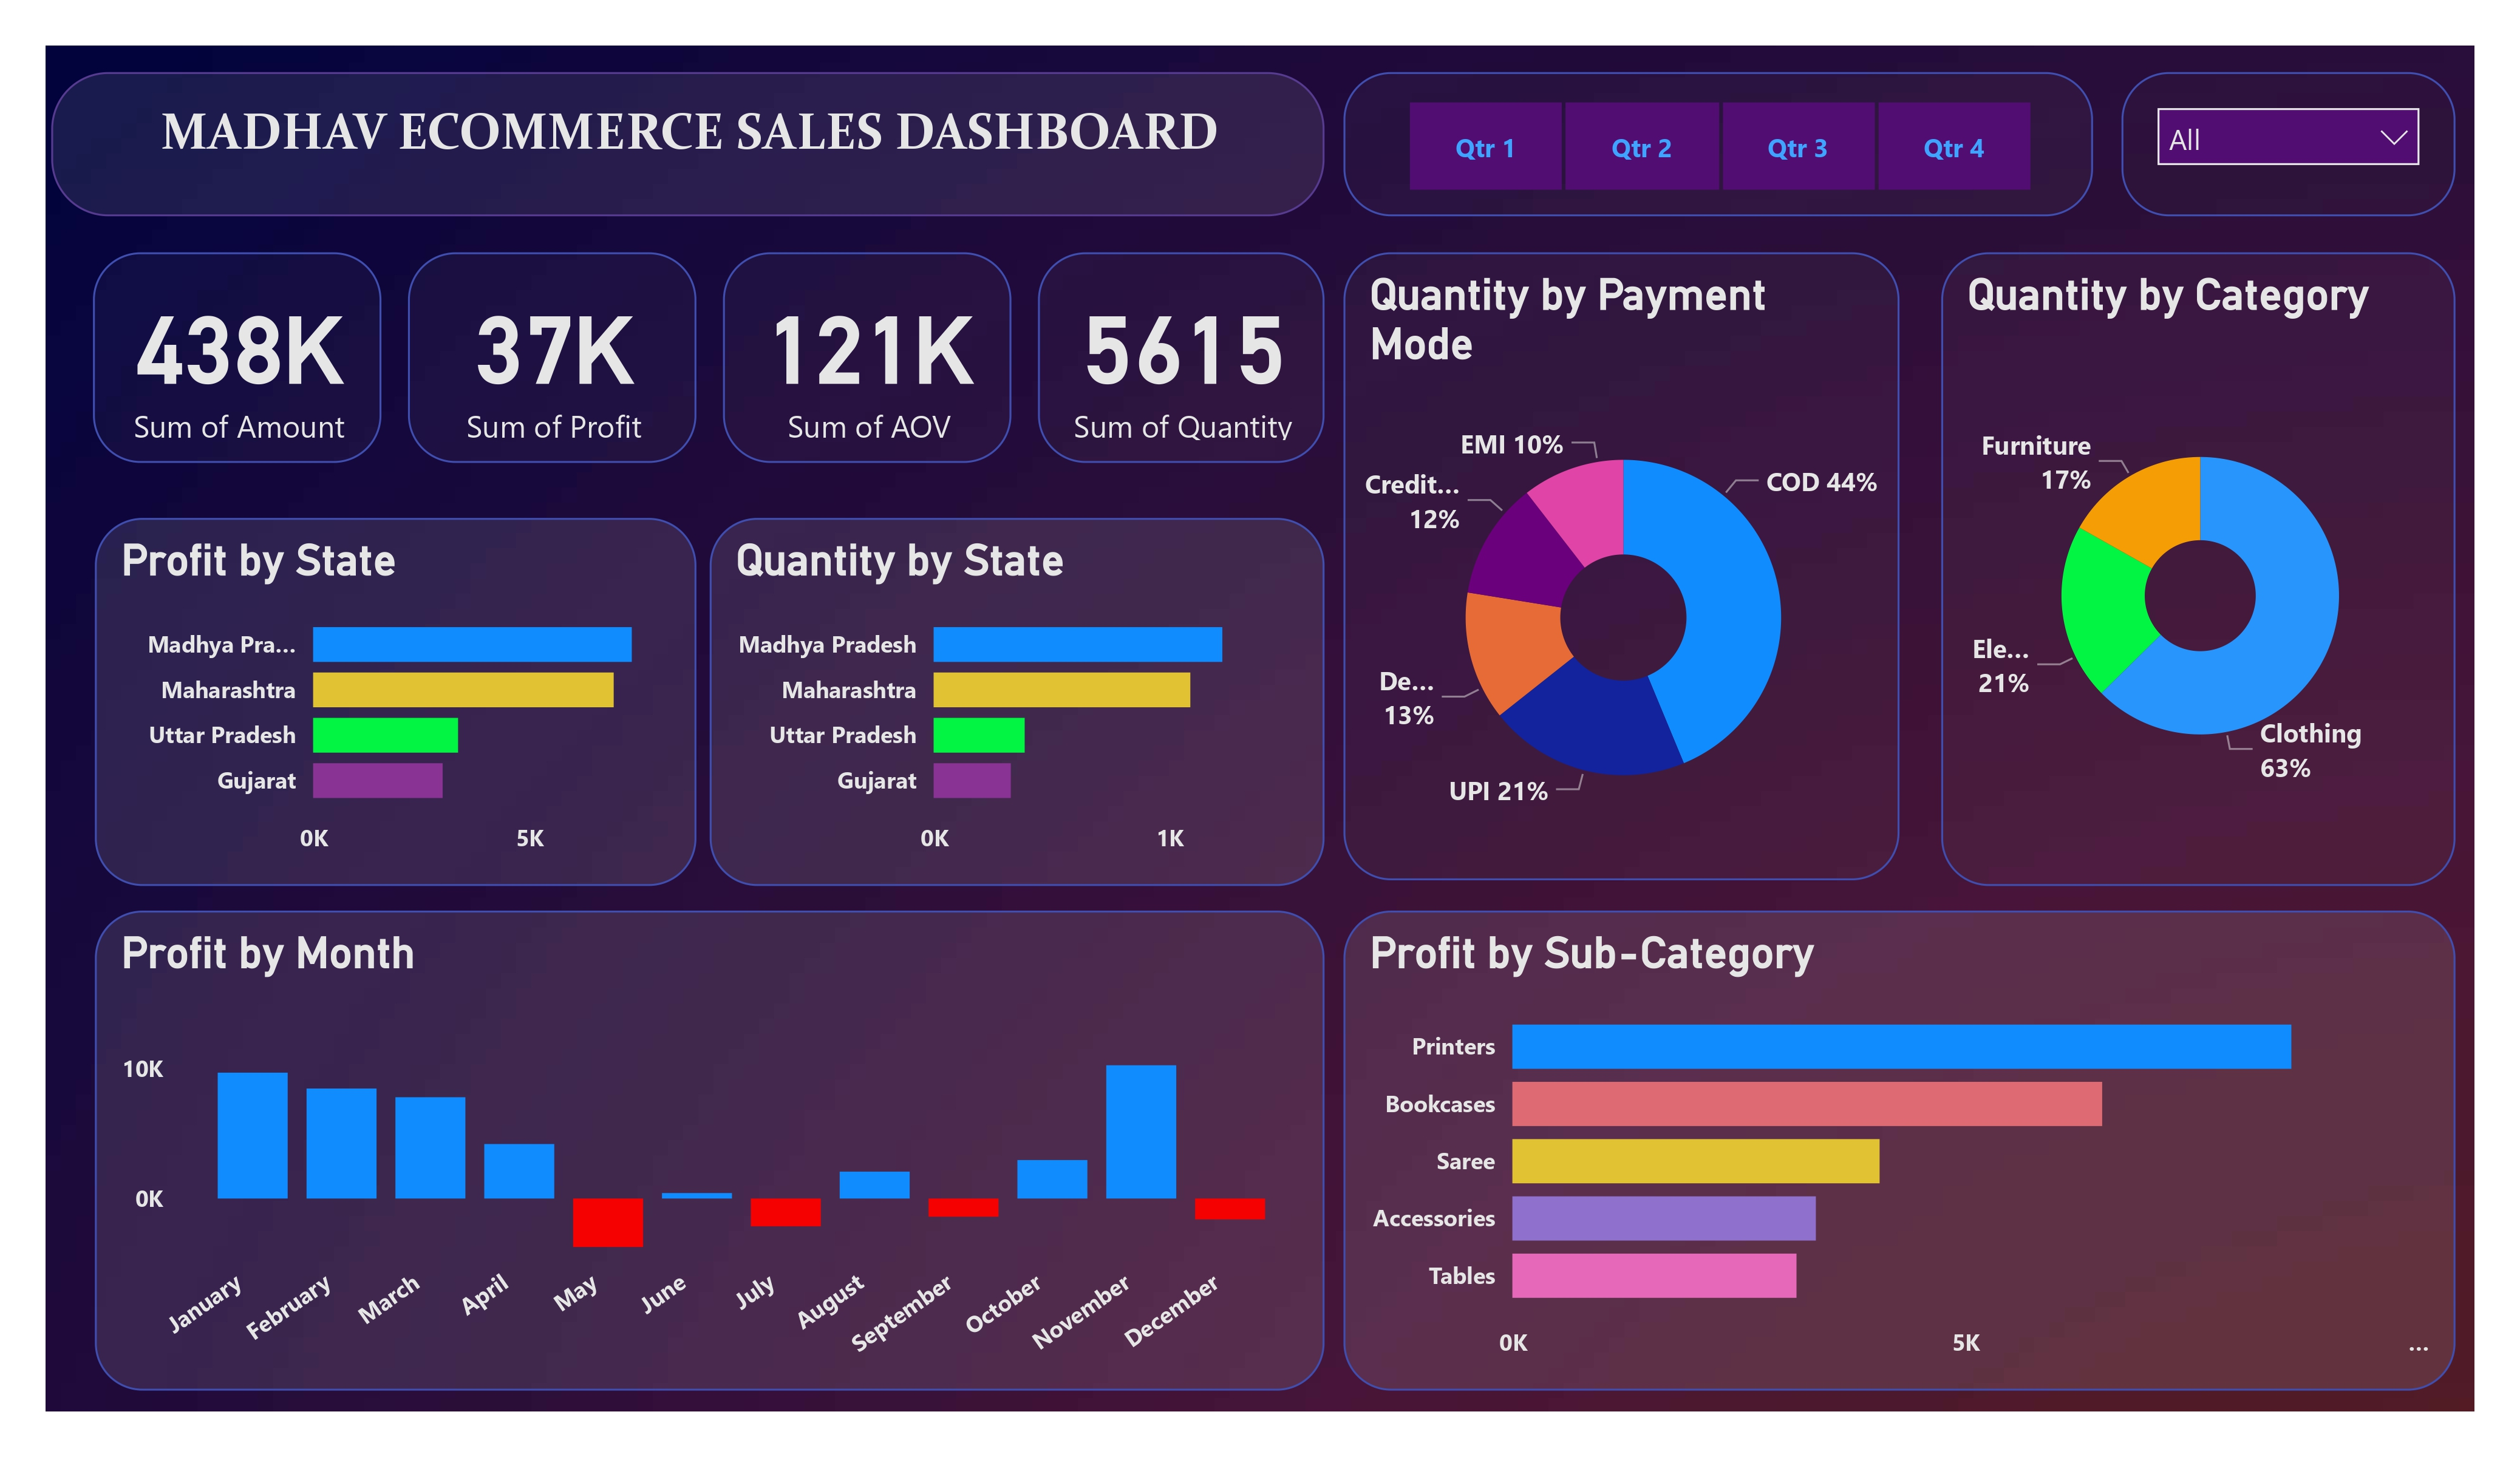

The page's visual inventory and layout, read from the dashboard file:
{"tool":"powerbi","page":{"name":"Page 1","canvas":[1280,720],"ordinal":0},"visuals":[{"type":"textbox","box":[2.9,14.3,671.4,75.7],"z":0},{"type":"columnChart","title":"Profit by Month","fields":{"Y":["Sum(Details.Profit)"],"Category":["Orders.Order Date.Variation.Date Hierarchy.Month"]},"box":[25.7,455.7,648.6,252.9],"z":1000},{"type":"barChart","fields":{"Category":["Details.Sub-Category"],"Y":["Sum(Details.Profit)"]},"box":[684.3,455.7,585.7,252.9],"z":2000},{"type":"donutChart","fields":{"Category":["Details.Category"],"Y":["Sum(Details.Quantity)"]},"box":[998.6,108.6,271.4,334.3],"z":3000},{"type":"donutChart","fields":{"Y":["Sum(Details.Quantity)"],"Category":["Details.PaymentMode"]},"box":[684.3,108.6,292.9,331.4],"z":4000},{"type":"card","fields":{"Values":["Sum(Details.Profit)"]},"box":[191.4,108.6,151.4,111.4],"z":5000},{"type":"card","fields":{"Values":["Sum(Details.AOV)"]},"box":[357.1,108.6,151.4,111.4],"z":6000},{"type":"card","fields":{"Values":["Sum(Details.Amount)"]},"box":[25.4,109.1,151.9,111.1],"z":7000},{"type":"card","fields":{"Values":["Sum(Details.Quantity)"]},"box":[522.9,108.6,151.4,111.4],"z":8000},{"type":"barChart","fields":{"Y":["Sum(Details.Profit)"],"Category":["Orders.State"]},"box":[25.7,248.6,317.1,194.3],"z":9000},{"type":"barChart","fields":{"Category":["Orders.State"],"Y":["Sum(Details.Quantity)"]},"box":[357.1,248.6,317.1,194.3],"z":10000},{"type":"slicer","fields":{"Values":["Orders.Order Date.Variation.Date Hierarchy.Quarter"]},"box":[684.3,14.3,394.3,75.7],"z":11000},{"type":"slicer","fields":{"Values":["Orders.State"]},"box":[1094.3,14.3,175.7,75.7],"z":12000}]}

Visuals, with their boxes on the page's 1280x720 design canvas (x1, y1, x2, y2). These are canvas units, not pixel positions in the 2520x1457 screenshot, which may show the page scaled, cropped or inside an application window:
textbox: select_region(3, 14, 674, 90)
"Profit by Month" columnChart: select_region(26, 456, 674, 709)
barChart - Details.Sub-Category x Sum(Details.Profit): select_region(684, 456, 1270, 709)
donutChart - Details.Category x Sum(Details.Quantity): select_region(999, 109, 1270, 443)
donutChart - Sum(Details.Quantity) x Details.PaymentMode: select_region(684, 109, 977, 440)
card - Sum(Details.Profit): select_region(191, 109, 343, 220)
card - Sum(Details.AOV): select_region(357, 109, 508, 220)
card - Sum(Details.Amount): select_region(25, 109, 177, 220)
card - Sum(Details.Quantity): select_region(523, 109, 674, 220)
barChart - Sum(Details.Profit) x Orders.State: select_region(26, 249, 343, 443)
barChart - Orders.State x Sum(Details.Quantity): select_region(357, 249, 674, 443)
slicer - Orders.Order Date.Variation.Date Hierarchy.Quarter: select_region(684, 14, 1079, 90)
slicer - Orders.State: select_region(1094, 14, 1270, 90)
